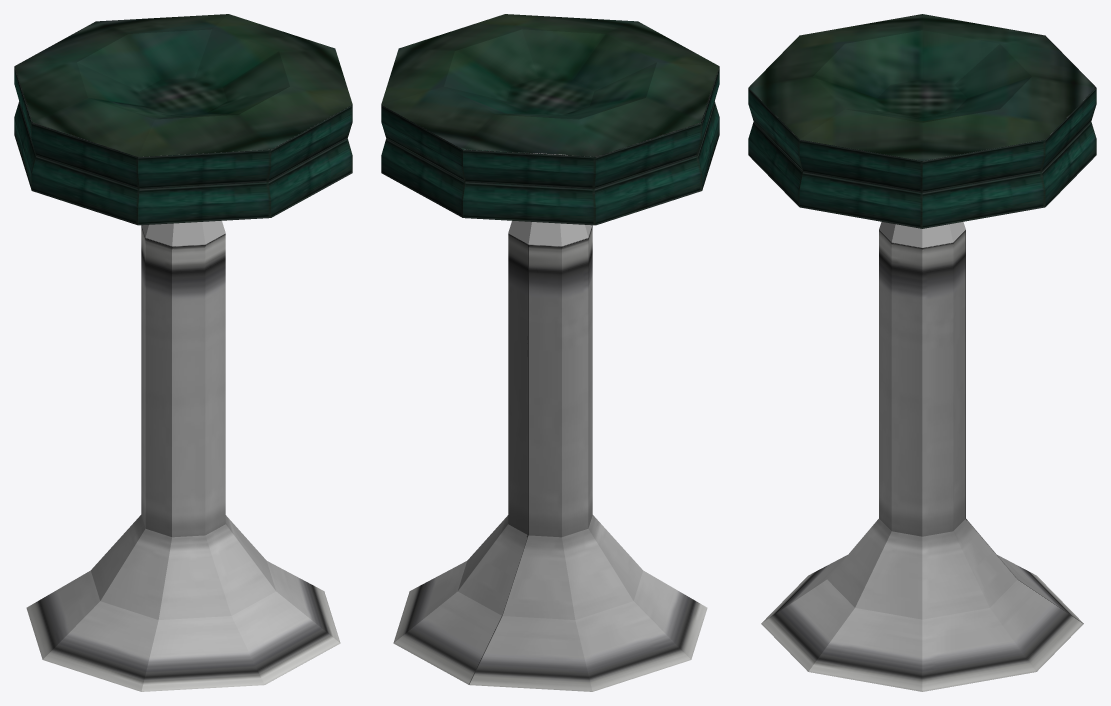
File: bar_chair.fbx
The picture shows the model from 3 angles, left to right: view 1: azimuth 30°, elevation 25°; view 2: azimuth 150°, elevation 25°; view 3: azimuth 270°, elevation 25°; orthographic projection.
Parts seen in each view (by area): view 1: Cylinder.001; view 2: Cylinder.001; view 3: Cylinder.001.
Part boxes in pixels (<box>): Cylinder.001: <box>14,14,352,691</box>; Cylinder.001: <box>381,14,719,691</box>; Cylinder.001: <box>748,14,1096,691</box>.
Size of the model in its own units: 80 by 139 by 80.
2 materials, 2 textured.
